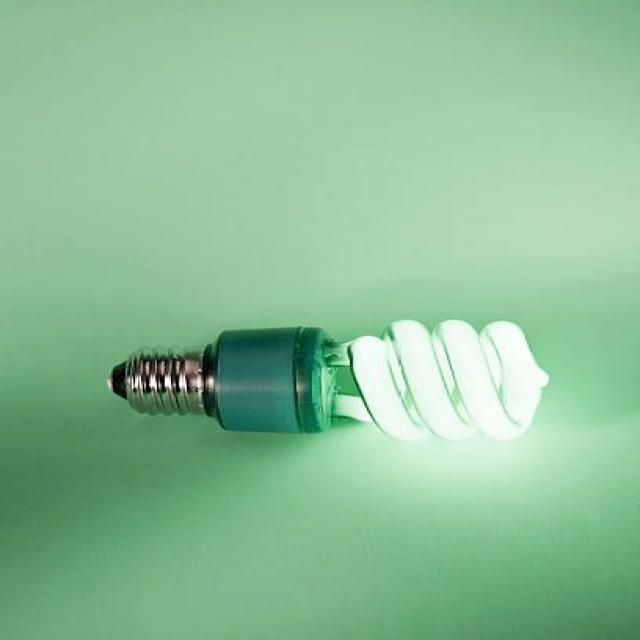electronic: (105, 317, 549, 442)
